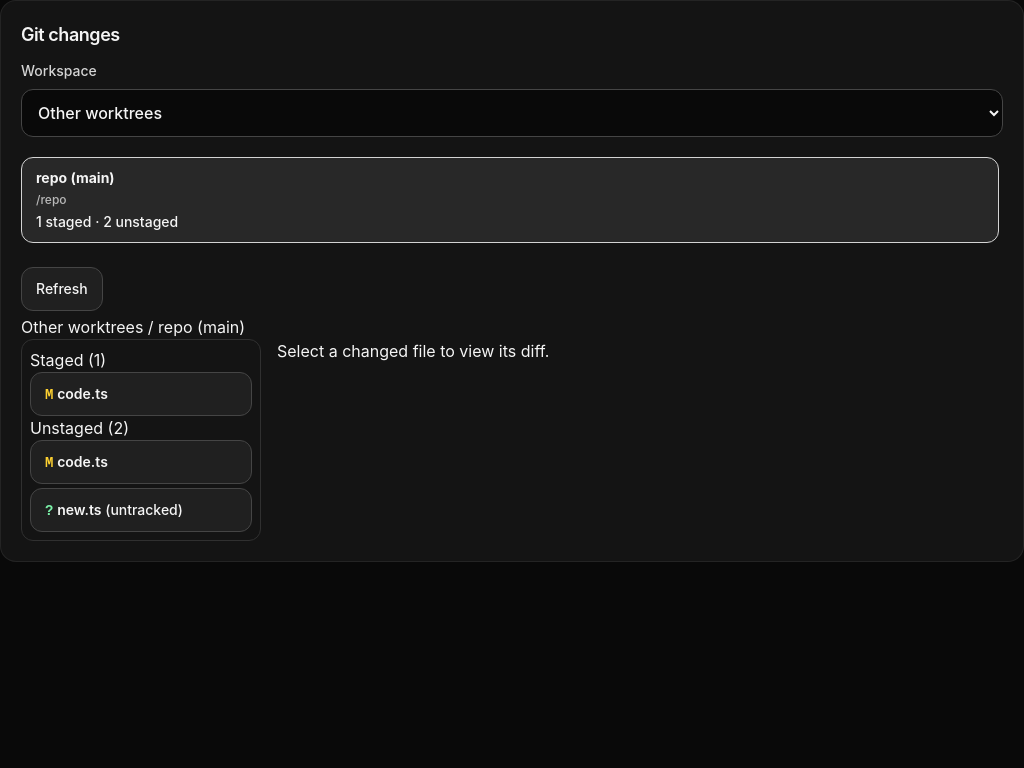
Test: shows both sides of partially staged files and requests the selected diff
Expected: the heading "Staged (1)" is shown, [30,350,106,370]
Expected: the heading "Unstaged (2)" is shown, [30,418,129,438]
Click the 1st button "M code.ts" at {"x": 141, "y": 394}, box [30,372,252,416]
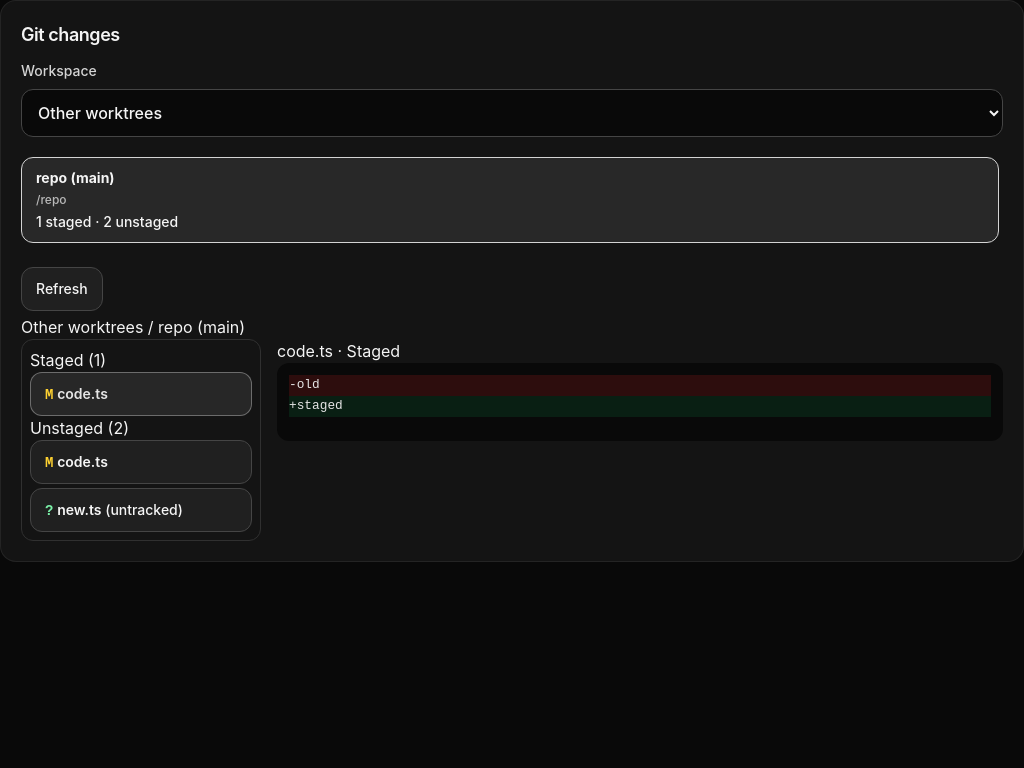
Expected: the text "+staged" is shown, [289,396,991,417]
Click the 2nd button "M code.ts" at {"x": 141, "y": 462}, box [30,440,252,484]
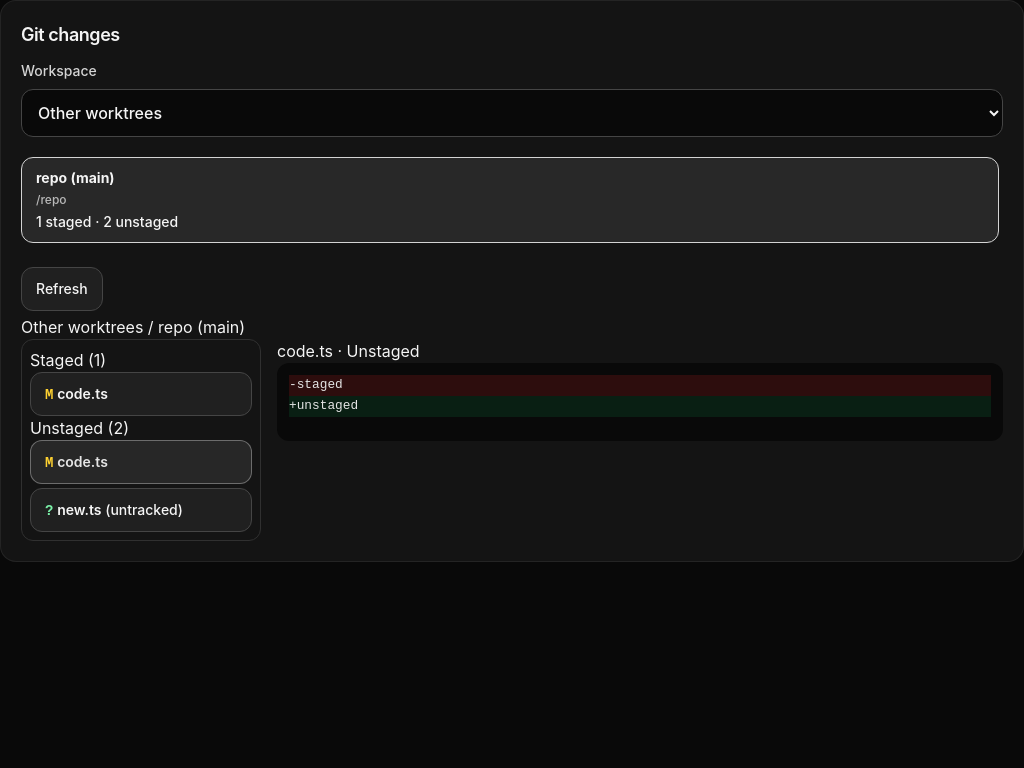
Expected: the text "+unstaged" is shown, [289,396,991,417]
